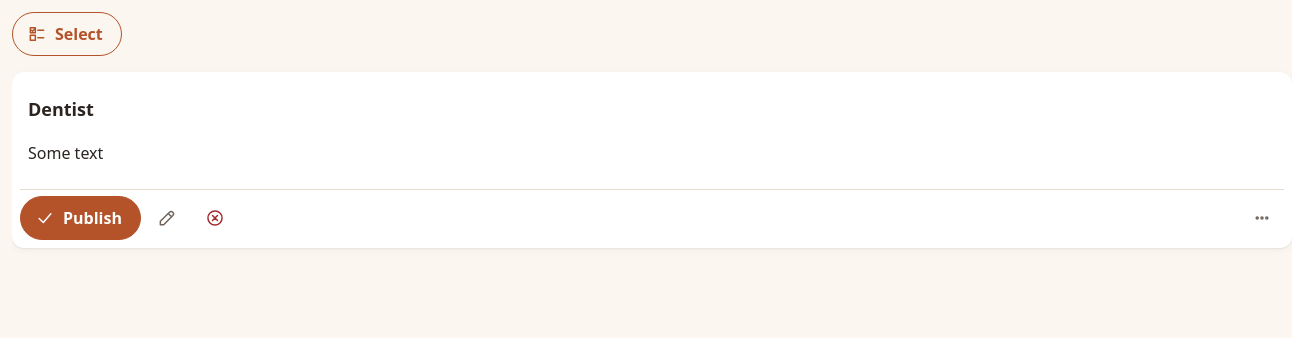
it: ReviewQueue › restores the proposal and shows the problem when discarding fails
Click the button named "Discard" at {"x": 215, "y": 218}, box 193,196 -> 237,240
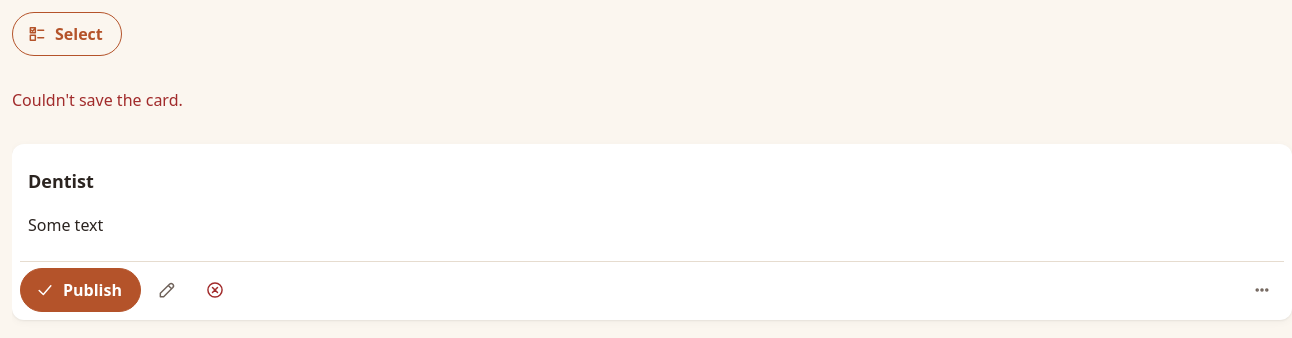
Expected: the heading "Dentist" is shown, 28,169 -> 94,193
Result: the message "Couldn't save the card." is shown at 12,89 -> 183,111
